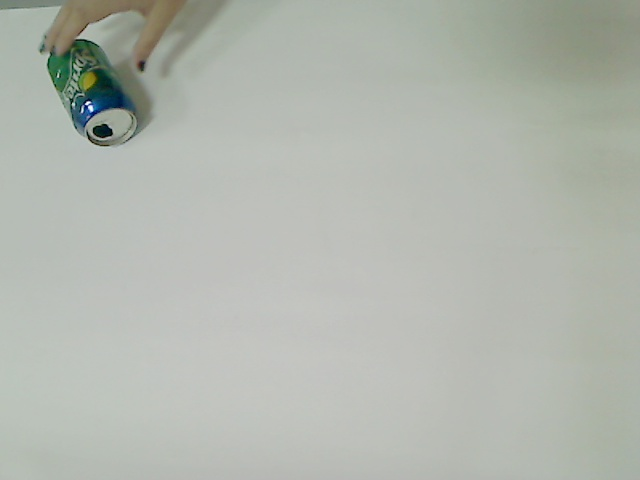can: (43, 36, 141, 149)
